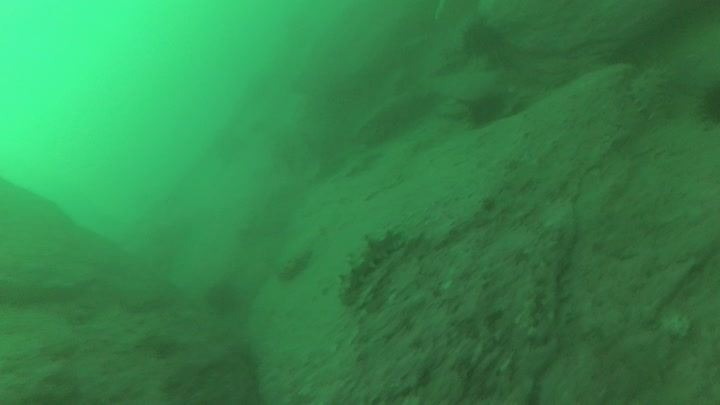echinus: (458, 18, 499, 59), (463, 93, 507, 130), (701, 79, 720, 125)
holothurian: (336, 232, 408, 308), (632, 66, 673, 123), (276, 247, 314, 282)
